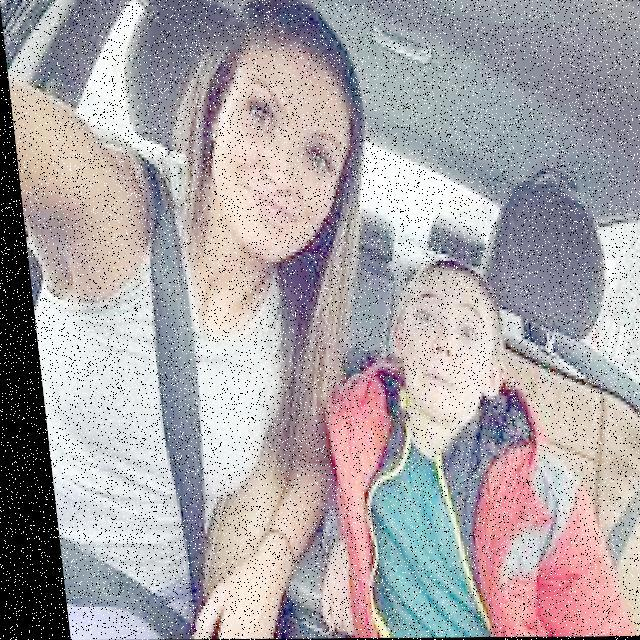noSeatbelt: (313, 391, 572, 638)
seatbelt: (41, 163, 282, 618)
